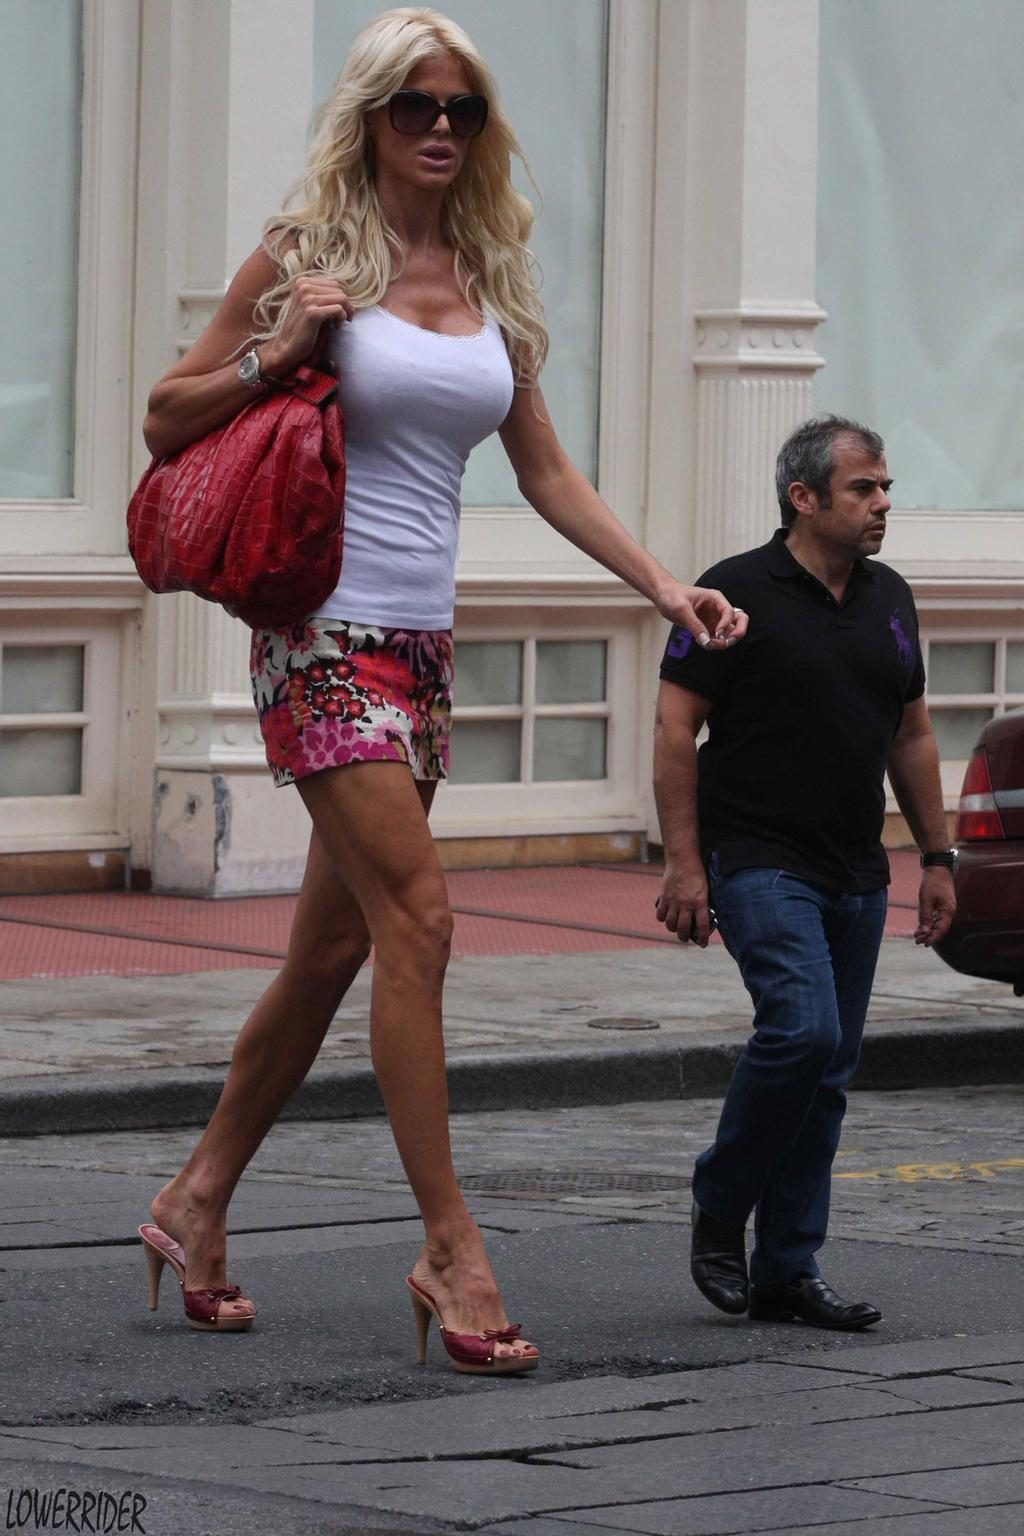Person: (98, 8, 753, 1398), (648, 411, 955, 1348)
